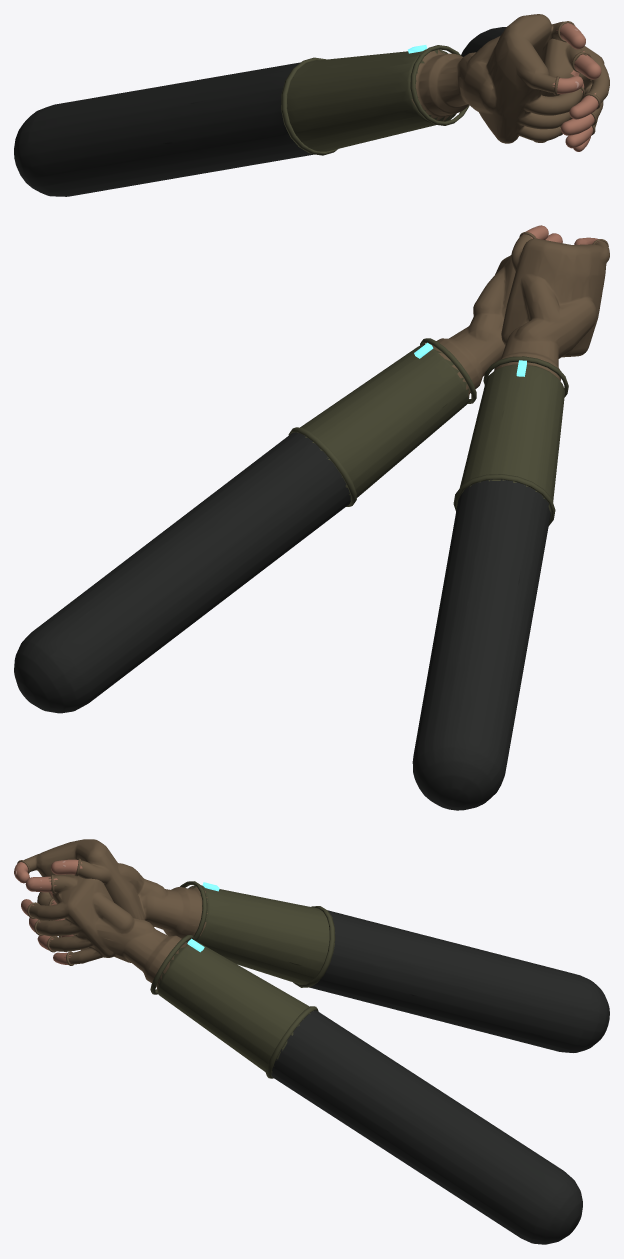
Rendered from PlayerFPHands_v3.glb.
The picture shows the model from 3 angles, top to bottom: view 1: azimuth 30°, elevation 25°; view 2: azimuth 150°, elevation 25°; view 3: azimuth 270°, elevation 25°; orthographic projection. The views are drawn at different scales.
Parts seen in each view (by area): view 1: PlayerFPHands_v3; view 2: PlayerFPHands_v3; view 3: PlayerFPHands_v3.
Part boxes in pixels (<box>): PlayerFPHands_v3: <box>14,14,609,196</box>; PlayerFPHands_v3: <box>14,225,609,810</box>; PlayerFPHands_v3: <box>14,839,609,1244</box>.
Bounding box in the file's own units: 0.5704 × 0.3717 × 0.6759.
